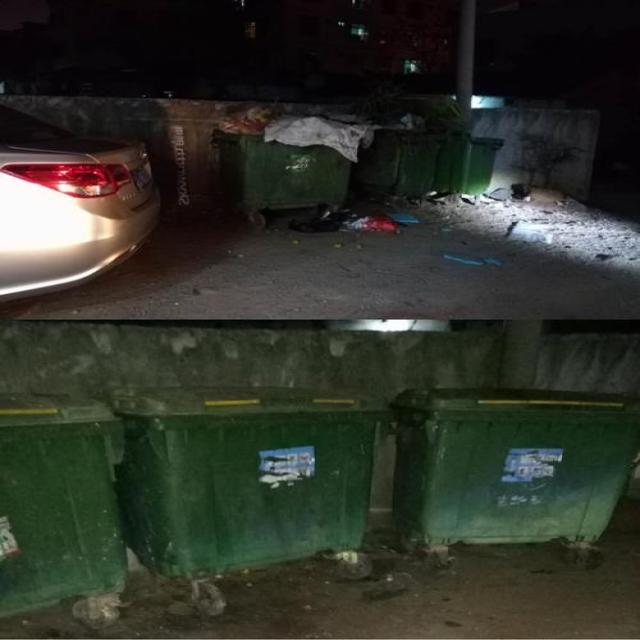garbage: (338, 211, 418, 230)
garbage_bin: (93, 386, 388, 578), (390, 387, 636, 542), (0, 391, 120, 617), (434, 136, 502, 193)
overflow: (214, 106, 371, 208)
